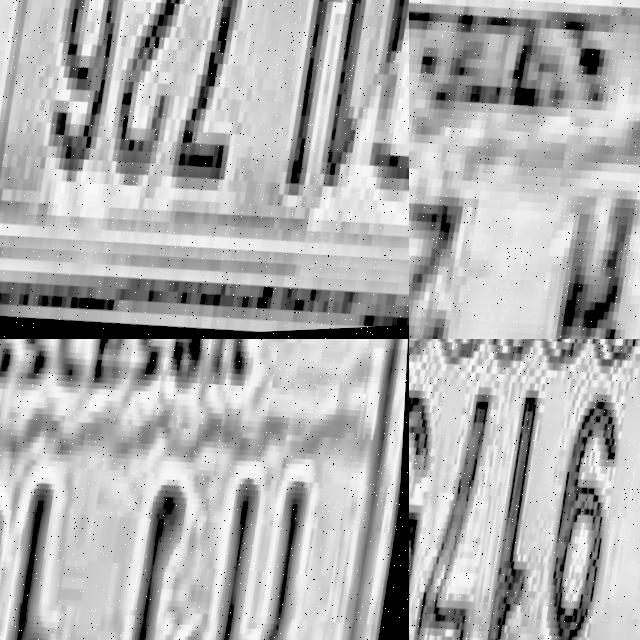license-plate: (0, 0, 409, 320), (0, 339, 409, 640), (409, 0, 640, 339), (409, 339, 640, 640)
